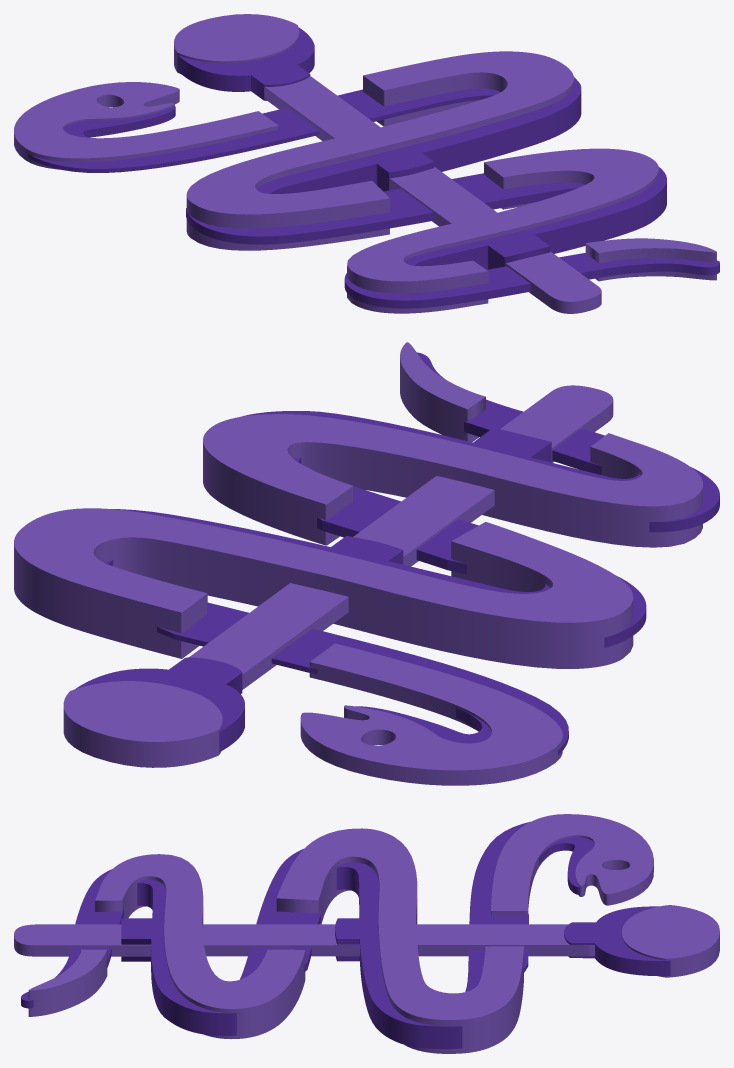
File: emoji_u2695.glb
3 views of the same model, one above another, from view 1: azimuth 30°, elevation 25°; view 2: azimuth 150°, elevation 25°; view 3: azimuth 270°, elevation 25° (orthographic). The views are drawn at different scales.
Visible parts, largest first — view 1: emoji_u2695; view 2: emoji_u2695; view 3: emoji_u2695.
Boxes of the visible parts, box(x1,y1,x2,y2) form: emoji_u2695: box(14, 14, 719, 313); emoji_u2695: box(14, 342, 719, 785); emoji_u2695: box(14, 814, 719, 1053).
Bounding box in the file's own units: 0.0249 × 0.0018 × 0.034.
